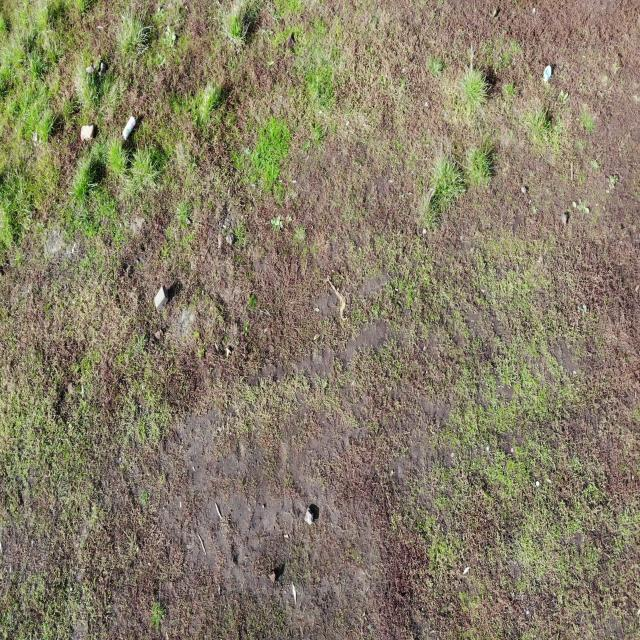rubbish: (121, 115, 136, 140), (542, 65, 553, 86)
